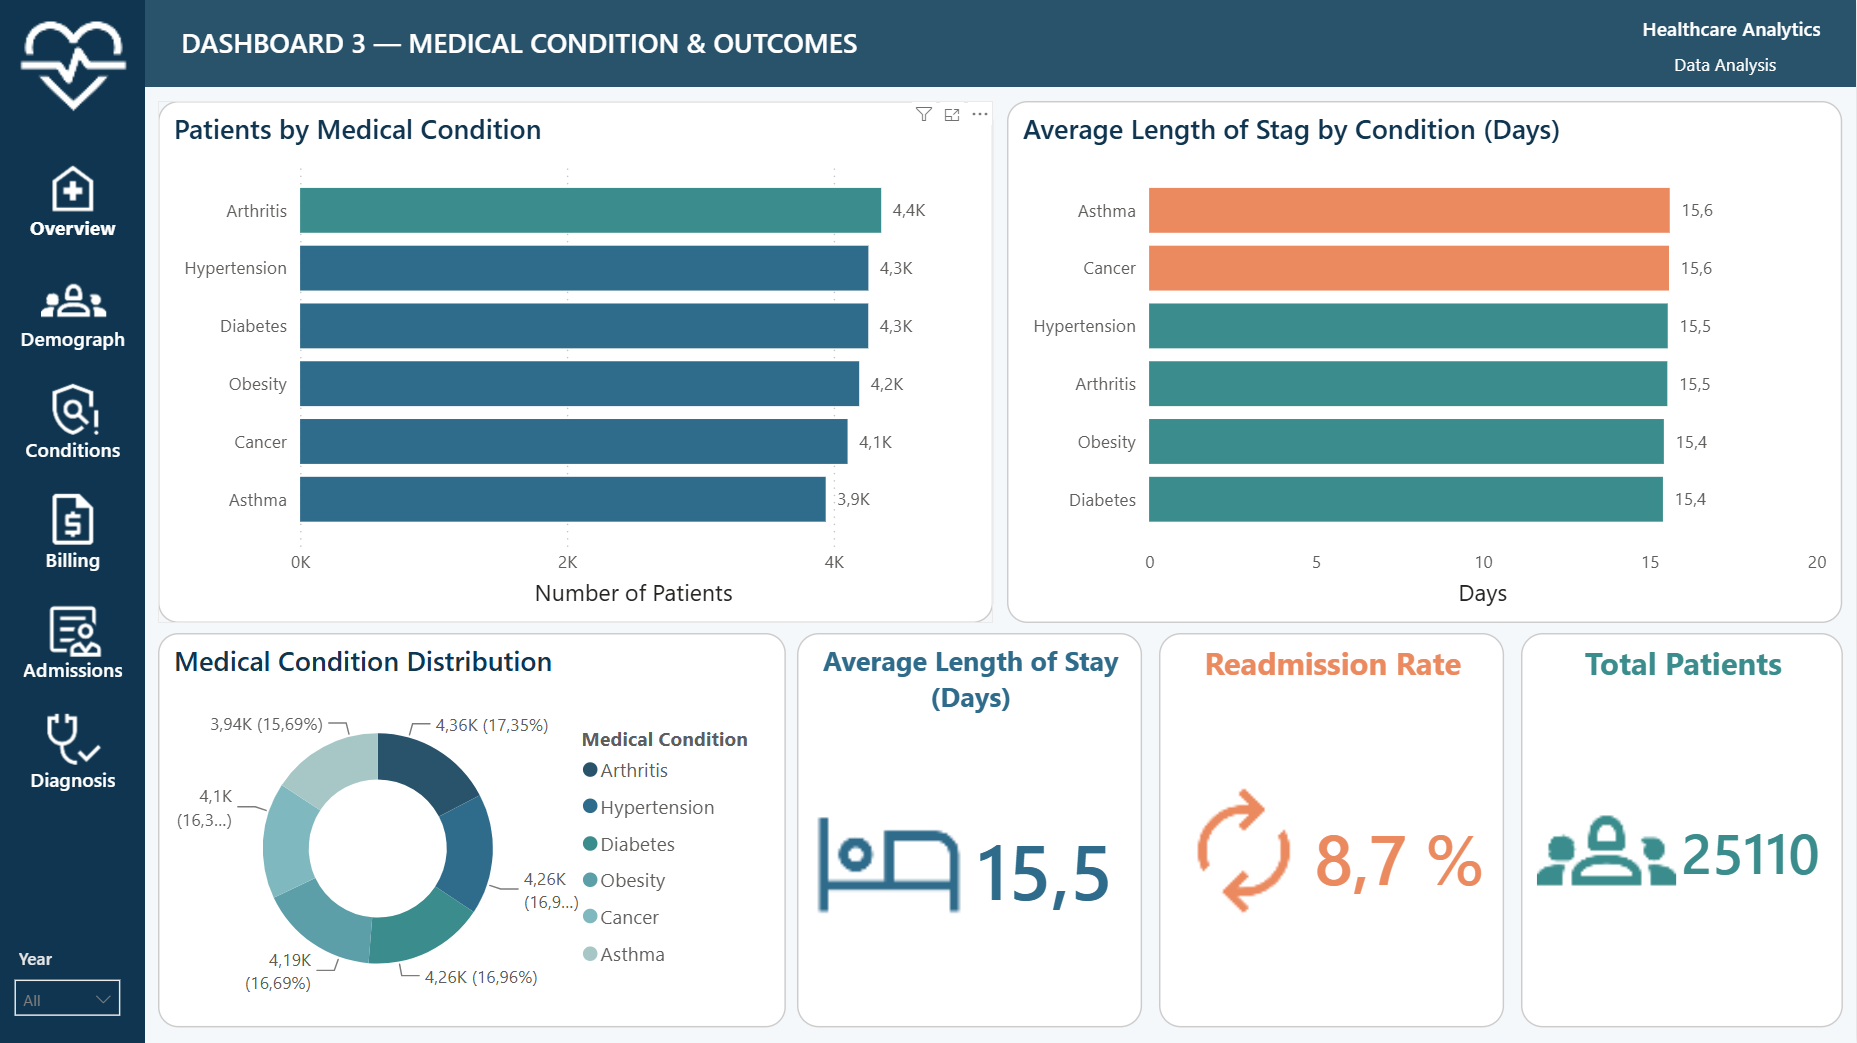

This screenshot's page, from the dashboard's own definition file:
{"tool":"powerbi","page":{"name":"Conditions","canvas":[1280,720],"ordinal":2},"visuals":[{"type":"group","id":"g1","title":"Navigation Bar","box":[0,0,100,720],"z":0},{"type":"shape","title":"Sidebar","box":[0,0,100,720],"z":1000,"group":"g1"},{"type":"shape","box":[99.9,0,1180.1,60.2],"z":1000},{"type":"actionButton","title":"NAV - Overview","box":[8.6,105,84,64],"z":1500,"group":"g1"},{"type":"textbox","title":"Left header title","box":[120,12,500.7,35],"z":2000},{"type":"actionButton","title":"NAV - Demographics","box":[8.6,181,84,64.5],"z":2000,"group":"g1"},{"type":"textbox","box":[1070.2,5.5,190.4,29.5],"z":3000},{"type":"actionButton","title":"NAV - Conditions","box":[8.6,257,84,64.5],"z":3000,"group":"g1"},{"type":"textbox","box":[1113.2,29.5,153.6,30.1],"z":4000},{"type":"actionButton","title":"NAV - Billing","box":[8.6,333,84,64.5],"z":4000,"group":"g1"},{"type":"image","box":[0.6,0,99.6,89.7],"z":5000},{"type":"actionButton","title":"NAV - Admissions","box":[8.6,409,84,64.5],"z":5000,"group":"g1"},{"type":"clusteredBarChart","title":"Patients by Medical Condition","fields":{"Category":["Healthcare Dataset.Medical Condition"],"Y":["CountNonNull(Healthcare Dataset.Medical Condition)"]},"box":[108.7,69.4,576,360],"z":6000},{"type":"actionButton","title":"NAV - Diagnosis","box":[8.6,485,84,64.5],"z":6000,"group":"g1"},{"type":"clusteredBarChart","title":"Average Length of Stag by Condition (Days)","fields":{"Category":["Healthcare Dataset.Medical Condition"],"Y":["Healthcare Dataset.Average Stay"]},"box":[694.8,69.4,576.2,360],"z":7000},{"type":"cardVisual","title":"Total Patients","fields":{"Data":["Healthcare Dataset.Total Patients"]},"box":[1049.3,436.8,221.8,272.2],"z":8000},{"type":"cardVisual","title":"Average Length of Stay (Days)","fields":{"Data":["Healthcare Dataset.Average Stay"]},"box":[549.8,436.8,237.7,272.2],"z":9000},{"type":"donutChart","title":"Medical Condition Distribution","fields":{"Category":["Healthcare Dataset.Medical Condition"],"Y":["CountNonNull(Healthcare Dataset.Medical Condition)"]},"box":[108.7,436.8,433.1,272.2],"z":10000},{"type":"cardVisual","title":"Readmission Rate","fields":{"Data":["Healthcare Dataset.Readmission Rate"]},"box":[799.2,436.8,237.7,272.2],"z":11000},{"type":"slicer","fields":{"Values":["Healthcare Dataset.Date of Admission.Variation.Date Hierarchy.Year"]},"box":[0,647.6,92.8,55.1],"z":12000}]}

Visuals, with their boxes in screenshot pixels (x1, y1, x2, y2), scaled from the page's 1280x720 canvas onto the 1857x1043 screenshot:
"Navigation Bar" group: (x1=0, y1=0, x2=145, y2=1042)
"Sidebar" shape: (x1=0, y1=0, x2=145, y2=1042)
shape: (x1=145, y1=0, x2=1856, y2=87)
"NAV - Overview" actionButton: (x1=12, y1=152, x2=134, y2=245)
"Left header title" textbox: (x1=174, y1=17, x2=900, y2=68)
"NAV - Demographics" actionButton: (x1=12, y1=262, x2=134, y2=356)
textbox: (x1=1553, y1=8, x2=1829, y2=51)
"NAV - Conditions" actionButton: (x1=12, y1=372, x2=134, y2=466)
textbox: (x1=1615, y1=43, x2=1838, y2=86)
"NAV - Billing" actionButton: (x1=12, y1=482, x2=134, y2=576)
image: (x1=1, y1=0, x2=145, y2=130)
"NAV - Admissions" actionButton: (x1=12, y1=592, x2=134, y2=686)
"Patients by Medical Condition" clusteredBarChart: (x1=158, y1=101, x2=993, y2=622)
"NAV - Diagnosis" actionButton: (x1=12, y1=703, x2=134, y2=796)
"Average Length of Stag by Condition (Days)" clusteredBarChart: (x1=1008, y1=101, x2=1844, y2=622)
"Total Patients" cardVisual: (x1=1522, y1=633, x2=1844, y2=1027)
"Average Length of Stay (Days)" cardVisual: (x1=798, y1=633, x2=1142, y2=1027)
"Medical Condition Distribution" donutChart: (x1=158, y1=633, x2=786, y2=1027)
"Readmission Rate" cardVisual: (x1=1159, y1=633, x2=1504, y2=1027)
slicer - Healthcare Dataset.Date of Admission.Variation.Date Hierarchy.Year: (x1=0, y1=938, x2=135, y2=1018)
